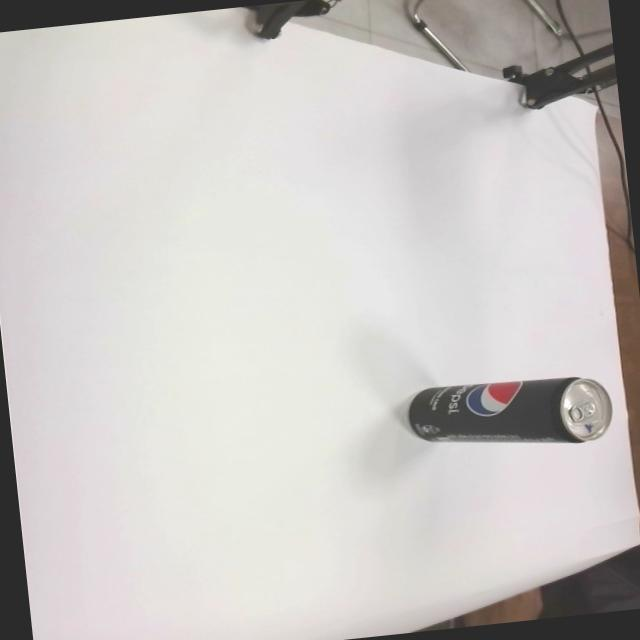debris: (404, 367, 616, 461)
